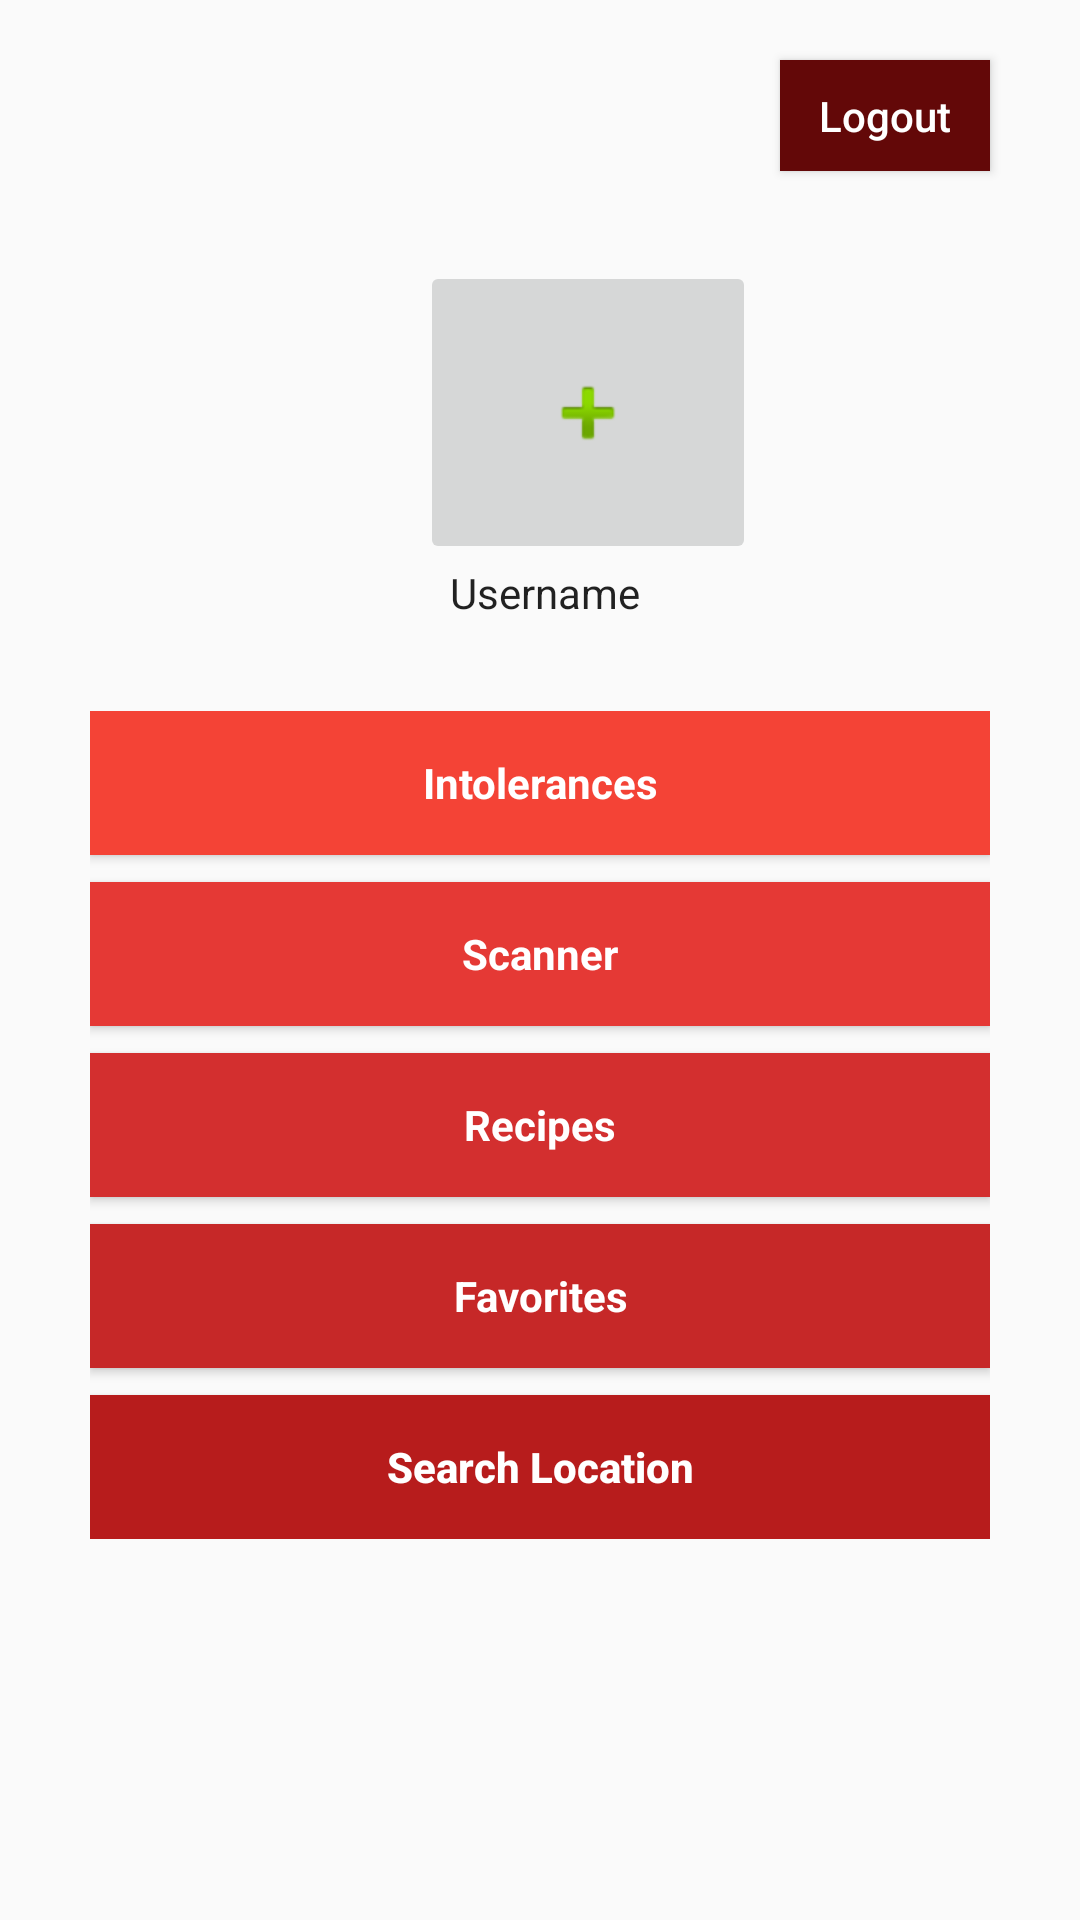

Icons on this 1080x1920 Android screen, each with its box as (x1, y1, x2, y2):
add: (432, 279, 744, 546)
